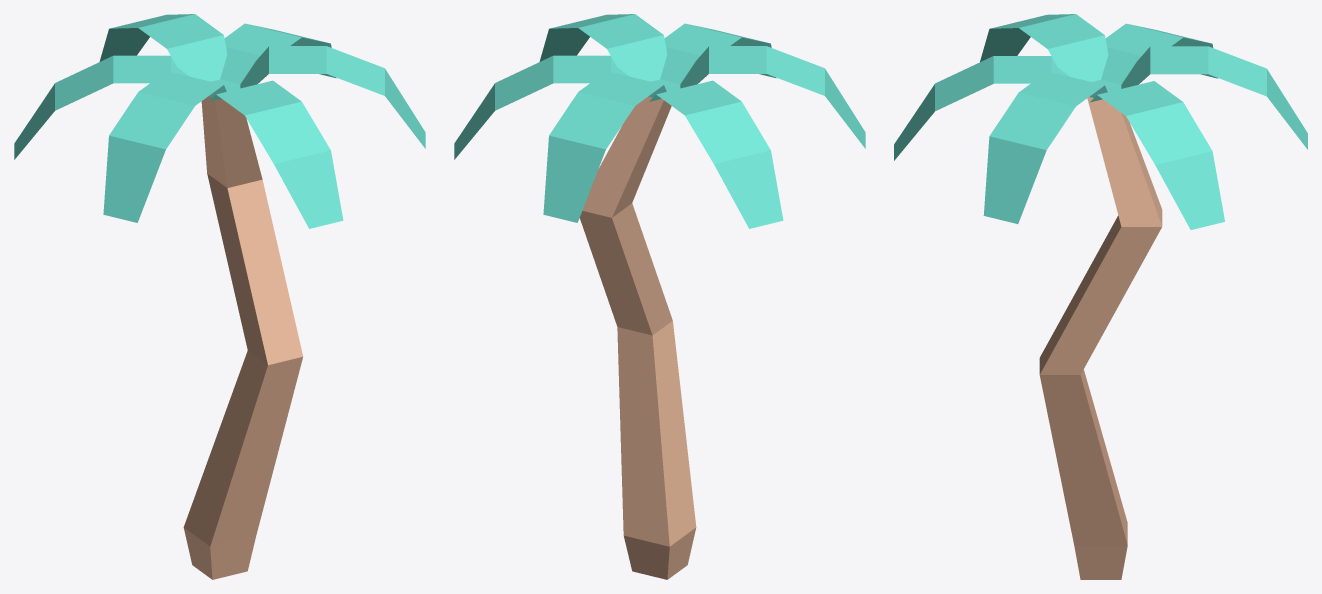
Rendered from tree_palmBend.glb.
The picture shows the model from 3 angles, left to right: view 1: azimuth 30°, elevation 25°; view 2: azimuth 150°, elevation 25°; view 3: azimuth 270°, elevation 25°; orthographic projection.
Parts seen in each view (by area): view 1: tree_palmBend; view 2: tree_palmBend; view 3: tree_palmBend.
Boxes of the visible parts, bbox=[...] form: tree_palmBend: bbox=[14, 14, 425, 579]; tree_palmBend: bbox=[454, 14, 865, 579]; tree_palmBend: bbox=[894, 14, 1307, 579].
Size of the model in its own units: 0.9355 by 1.38 by 1.01.
